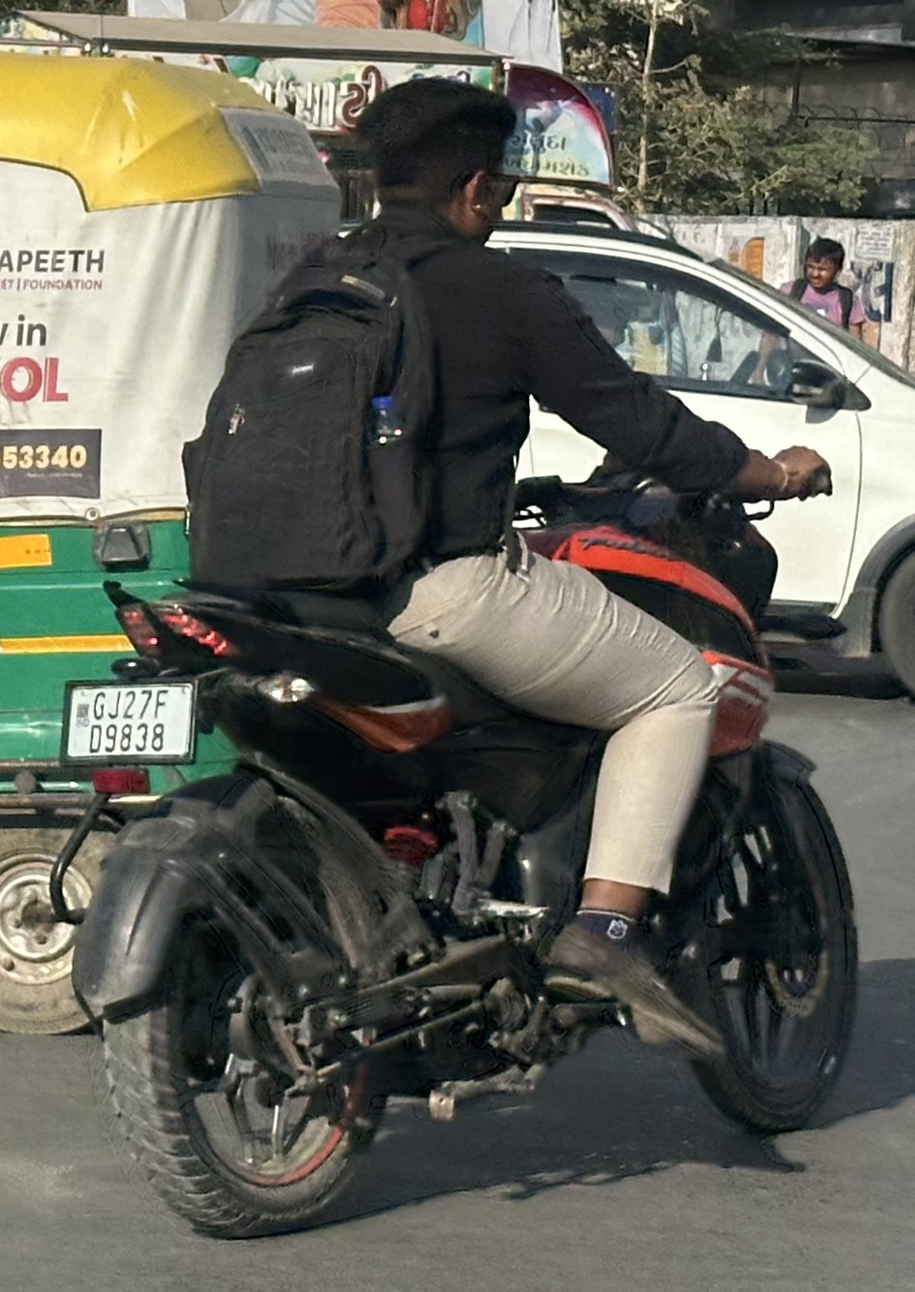BikeWithRider: (49, 64, 880, 1251)
NoHelmet: (335, 69, 537, 255)
